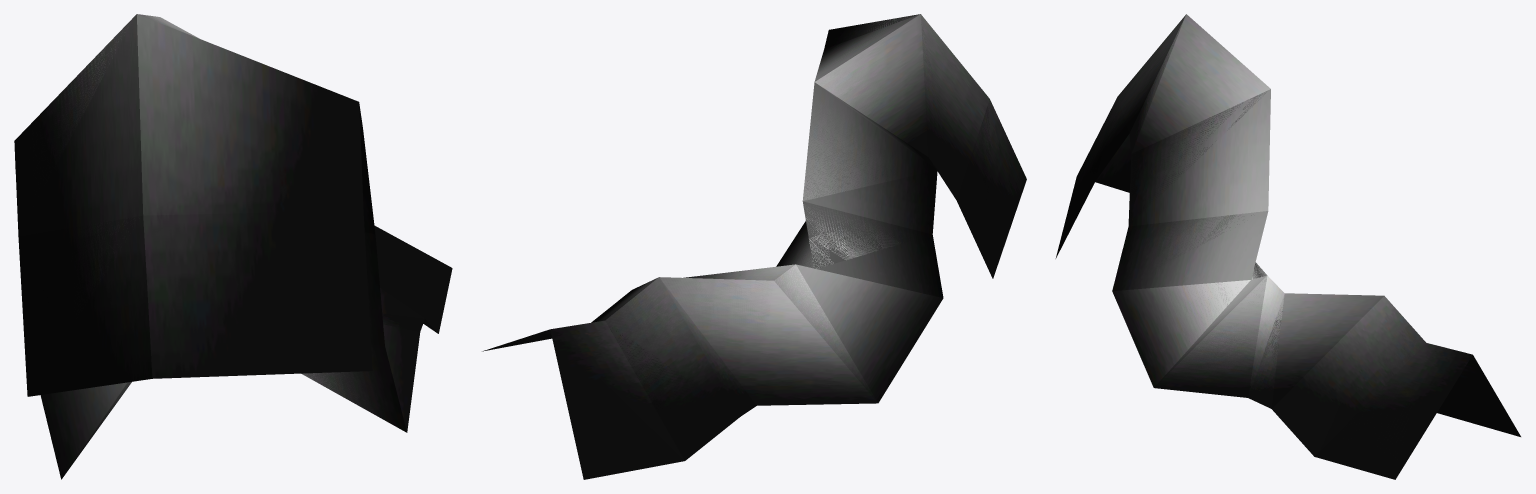
File: vfx_kurp_0561.dae
3 views of the same model, side by side, from view 1: azimuth 30°, elevation 25°; view 2: azimuth 150°, elevation 25°; view 3: azimuth 270°, elevation 25° (orthographic). The views are drawn at different scales.
Parts seen in each view (by area): view 1: vfx_kurp_0561; view 2: vfx_kurp_0561; view 3: vfx_kurp_0561.
Part boxes in pixels (x1,y1,x2,y2): vfx_kurp_0561: (14, 14, 452, 479); vfx_kurp_0561: (482, 14, 1026, 479); vfx_kurp_0561: (1055, 14, 1520, 479).
Size of the model in its own units: 7.27 by 7.78 by 6.47.
Materials: 1 (1 with a texture image).
